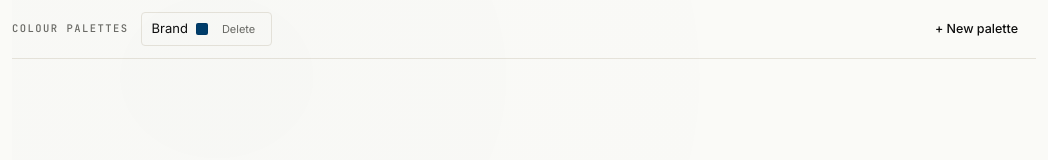
Test: PaletteManager › shows delete errors below the palette bar when the form is closed
Click the button "Delete".
click(239, 29)  # box [216,21,261,37]
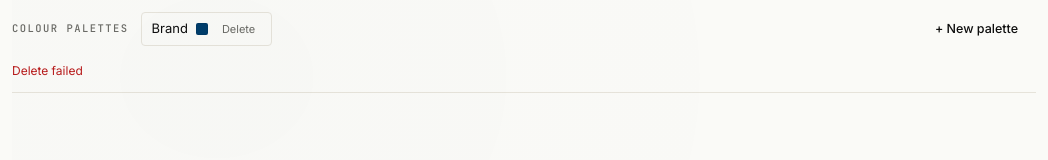
Expected: the text "Delete failed" is shown, [12,62,83,78]
